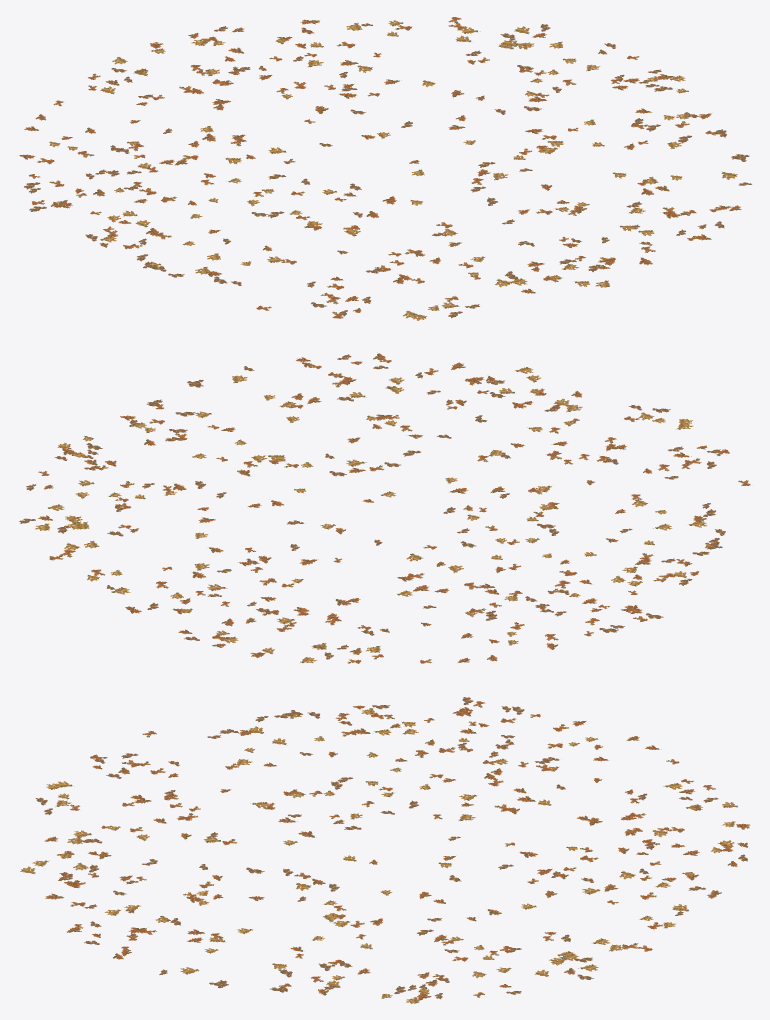
File: hetre_adulte_c.fbx
3 renders of one model, top to bottom at view 1: azimuth 30°, elevation 25°; view 2: azimuth 150°, elevation 25°; view 3: azimuth 270°, elevation 25°, orthographic.
Parts seen in each view (by area): view 1: hetre_adulte_c_feuilles_sol; view 2: hetre_adulte_c_feuilles_sol; view 3: hetre_adulte_c_feuilles_sol.
Boxes of the visible parts, x1,y1,x2,y2 form: hetre_adulte_c_feuilles_sol: (19,17,751,320); hetre_adulte_c_feuilles_sol: (19,352,750,663); hetre_adulte_c_feuilles_sol: (20,697,750,1003).
Size of what is drawn, in the model's own units: 14.25 by 0.00598 by 14.43.
